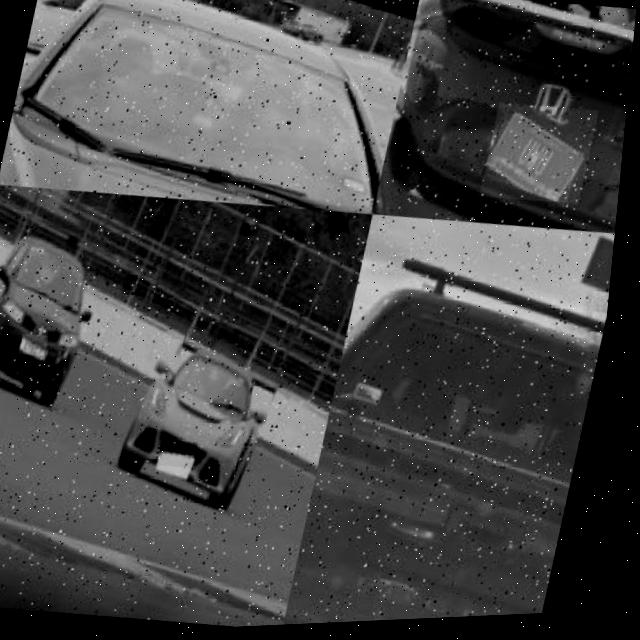LicensePlate: (491, 109, 593, 208), (169, 446, 206, 470), (27, 334, 54, 356)
